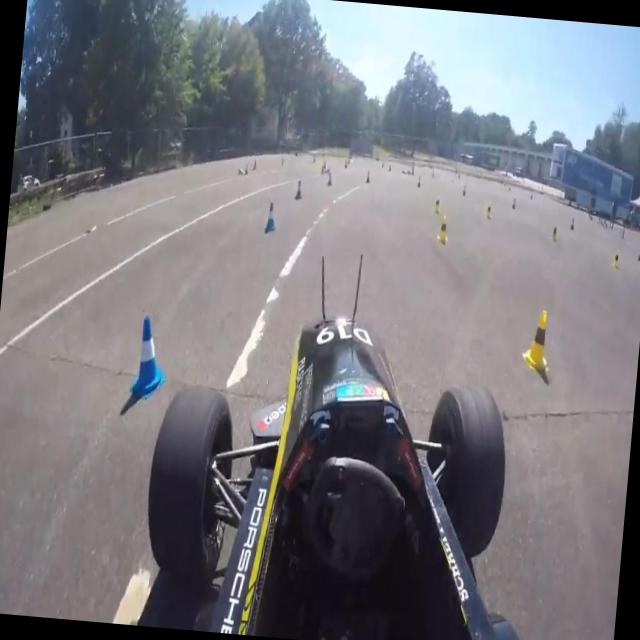Cono de seguridad: (129, 306, 165, 394), (524, 308, 548, 368), (434, 211, 450, 247), (262, 200, 280, 231), (292, 175, 302, 208), (608, 247, 620, 270), (486, 200, 494, 220), (550, 224, 558, 242), (364, 168, 372, 184), (434, 196, 441, 214), (326, 173, 333, 186), (635, 244, 640, 262), (416, 174, 422, 187), (511, 196, 516, 210), (244, 163, 248, 179), (323, 166, 330, 174), (570, 216, 574, 230), (320, 162, 324, 175), (237, 167, 244, 174), (343, 159, 348, 168), (462, 184, 466, 195), (312, 154, 316, 164), (280, 157, 284, 166), (411, 166, 414, 175), (388, 164, 391, 171), (530, 192, 532, 200), (348, 158, 350, 165), (382, 162, 384, 168)
vehiculo: (139, 299, 551, 640)
